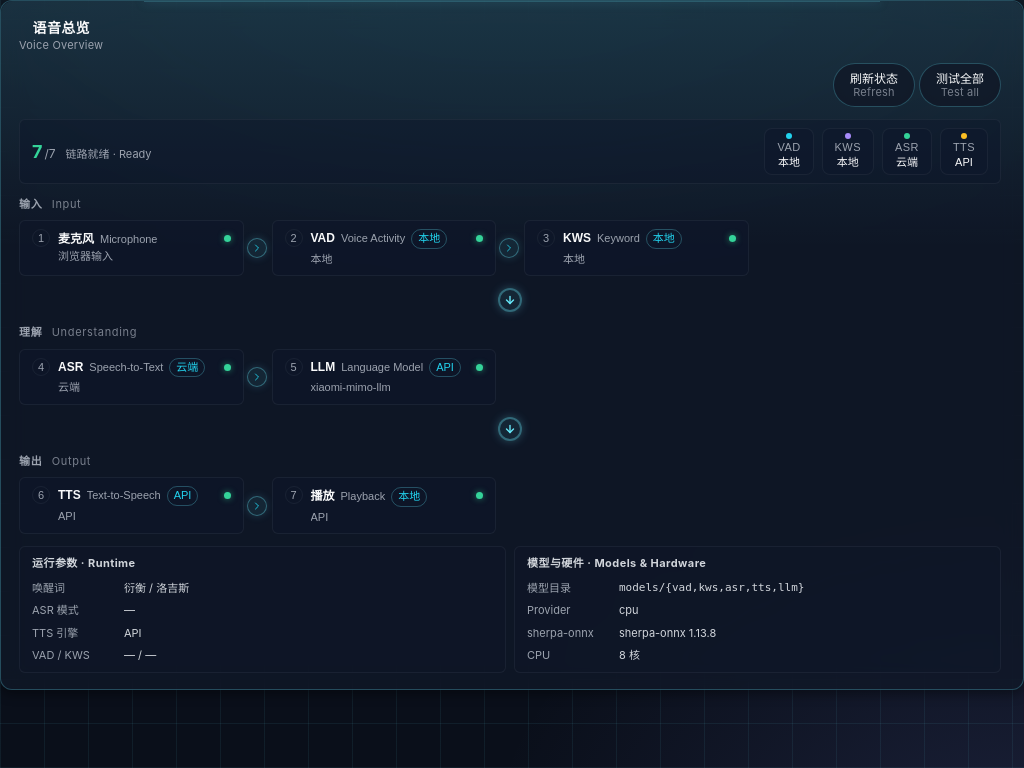
VoiceOverview › 测试全部引擎并显示自检结果
The width and height of the screenshot is (1024, 768).
Click the element showing "测试全部 Test all" at (960, 85), box x1=919 y1=63 x2=1001 y2=107
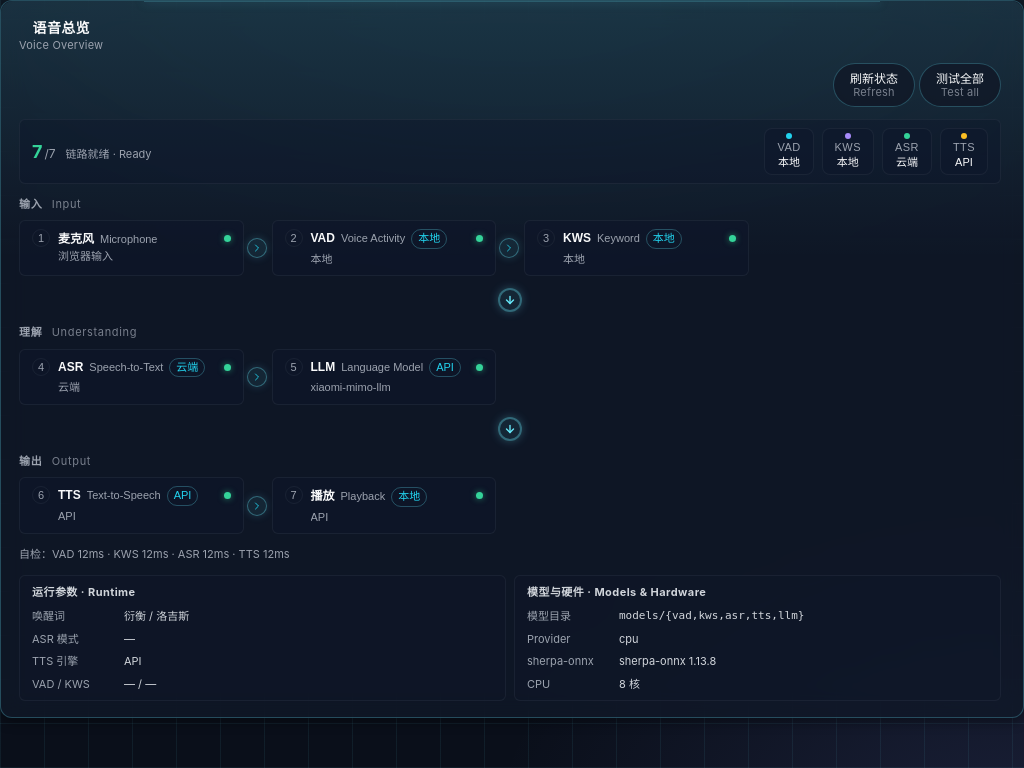
Now the text "自检" is shown, box x1=19 y1=548 x2=290 y2=562
Now the text "12ms" is shown, box x1=19 y1=548 x2=290 y2=562
